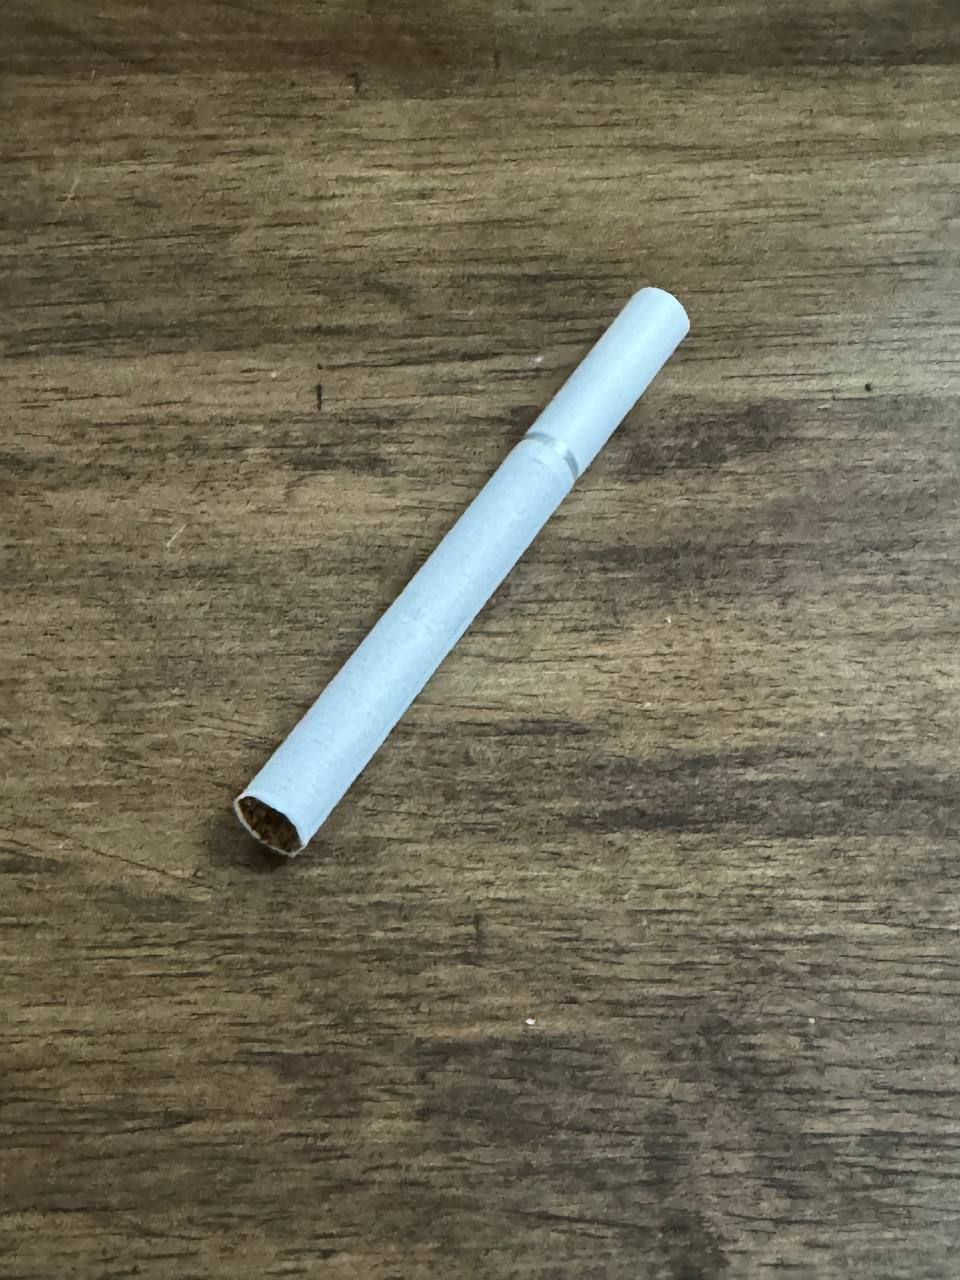trash: (229, 284, 702, 865)
